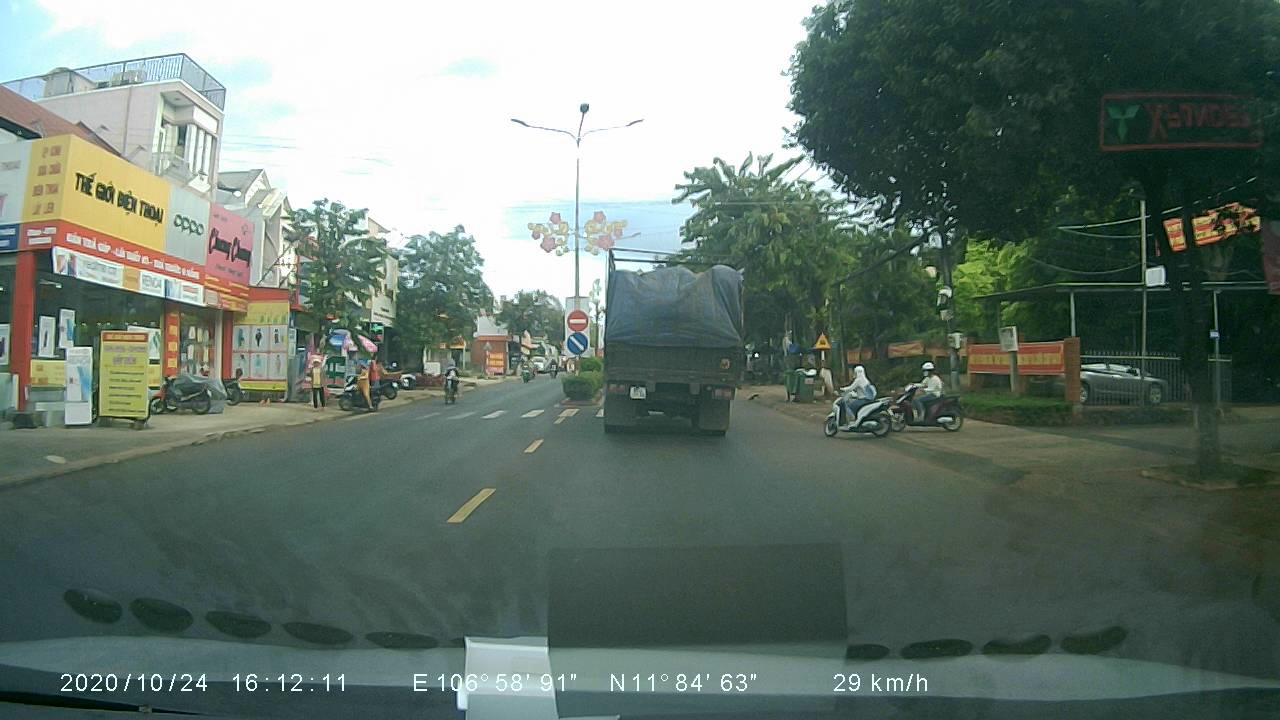Cam di nguoc chieu: (566, 308, 592, 332)
Huong di phai re phai: (564, 333, 592, 355)
